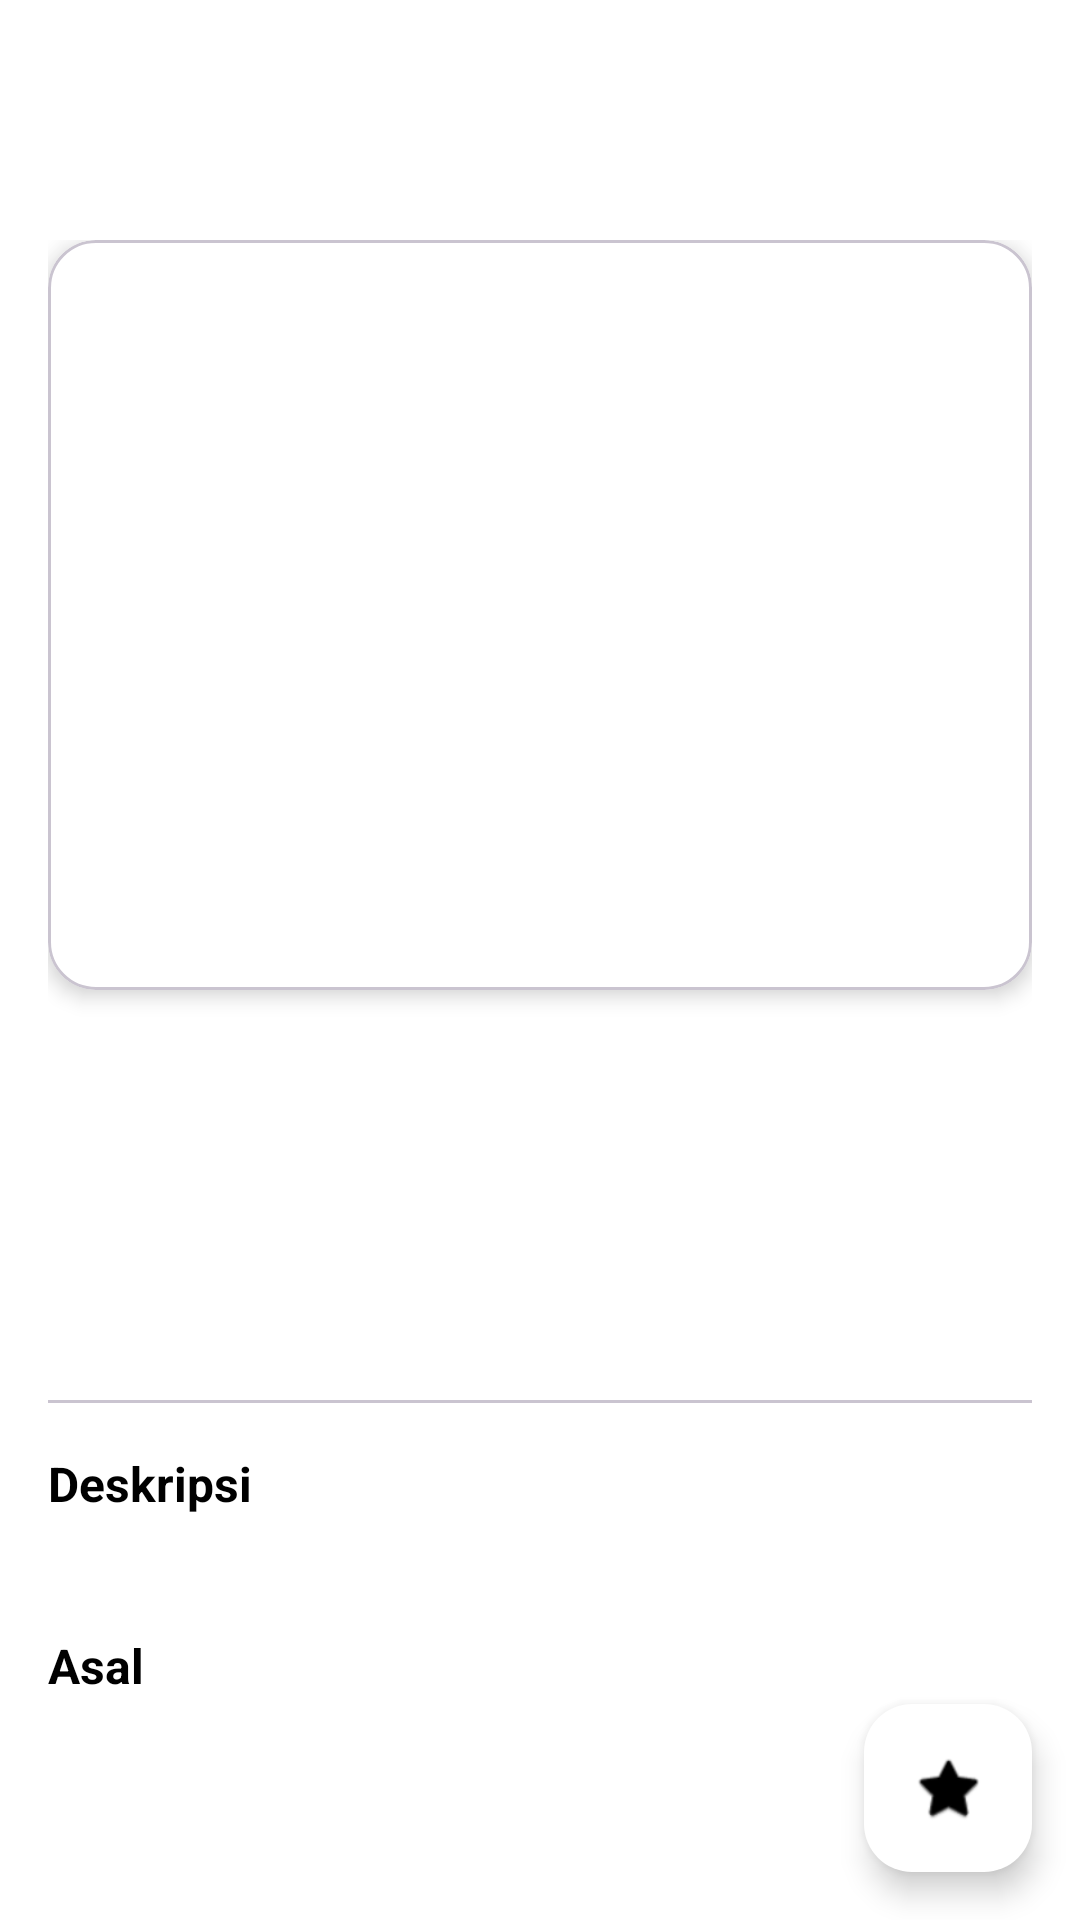

Screen size 1080*1920. Icon name, then its center in pixels as (x=x, y=y):
star off: (x=949, y=1788)
